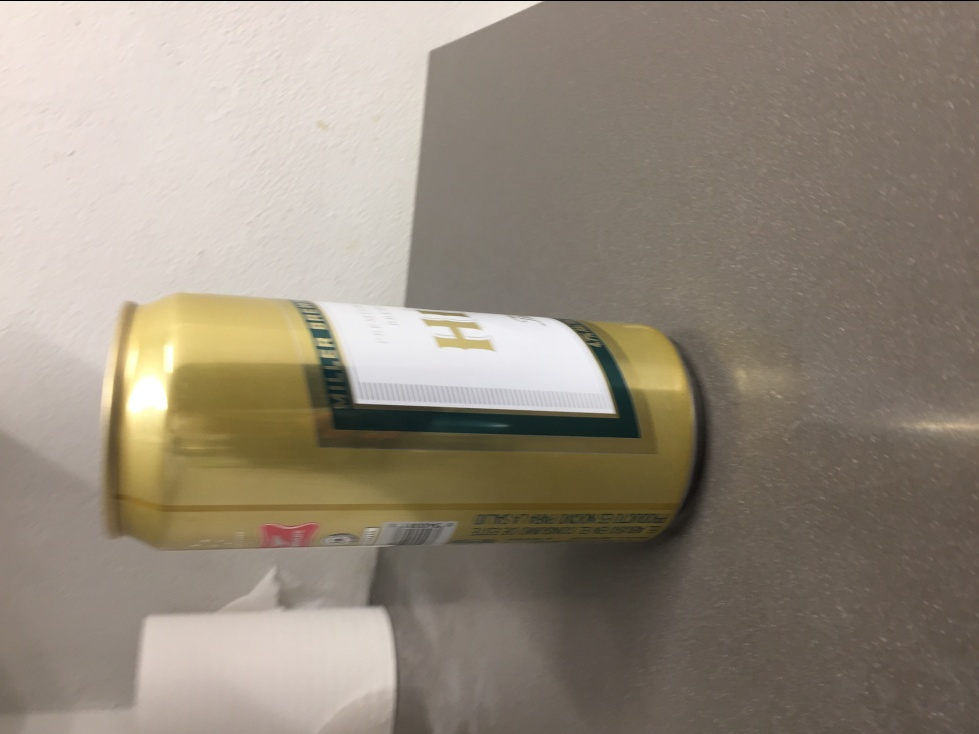miller: (92, 288, 708, 553)
